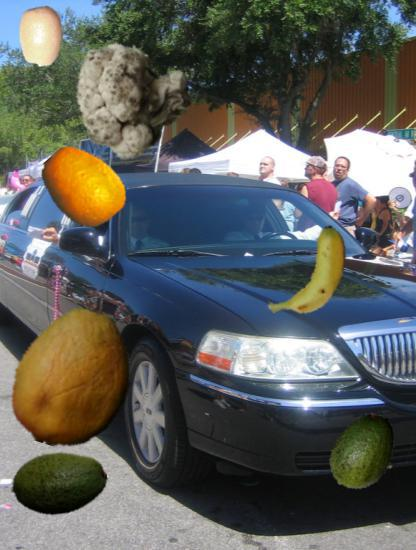Avocado: (11, 435, 109, 533), (324, 412, 406, 494)
Banana: (259, 221, 365, 327)
Cauliflower: (73, 36, 195, 158)
Kumquats: (40, 142, 129, 231), (10, 5, 72, 67)
Papaya: (1, 305, 145, 449)
